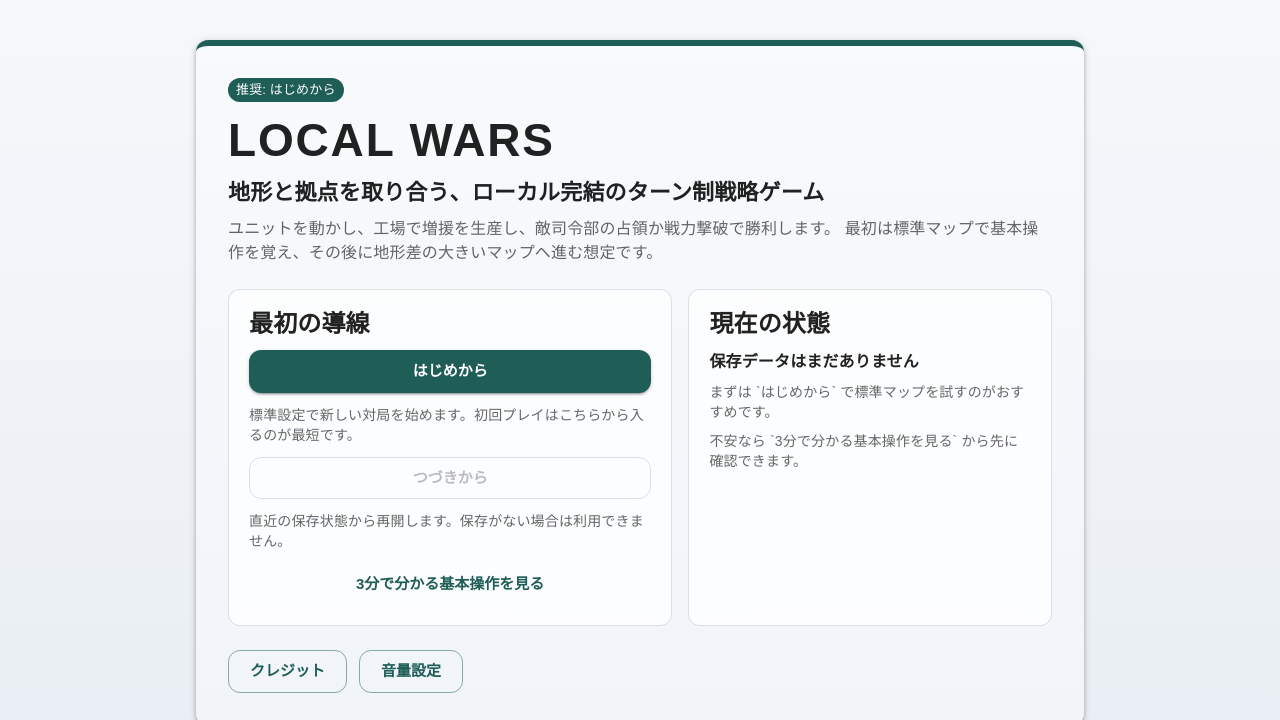
Test: App E2E相当導線テスト: ドローン戦初期値 › ドローン戦マップを選ぶと設定画面の初期値がドローン戦プリセットになる
Click the button "はじめから" at (450, 372), box [249,350,651,393]
(page scrolled)
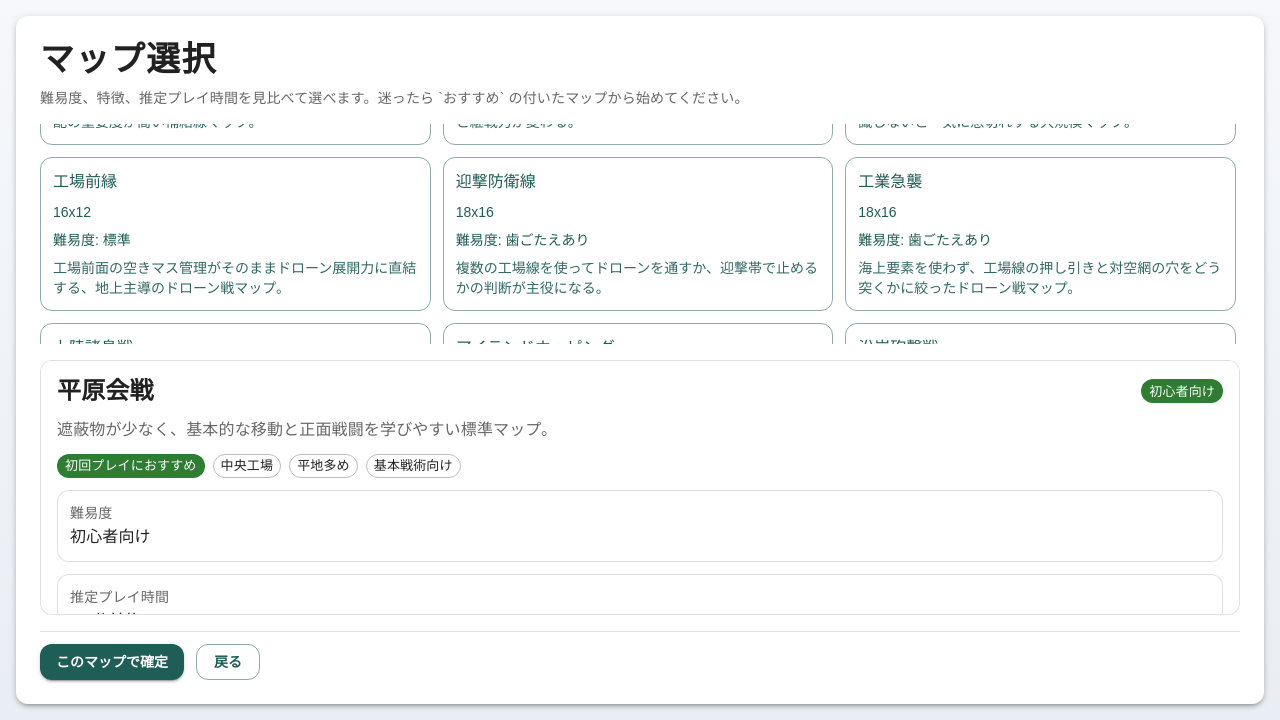
Click the button "工場前縁" at (85, 182), box [40,157,431,311]
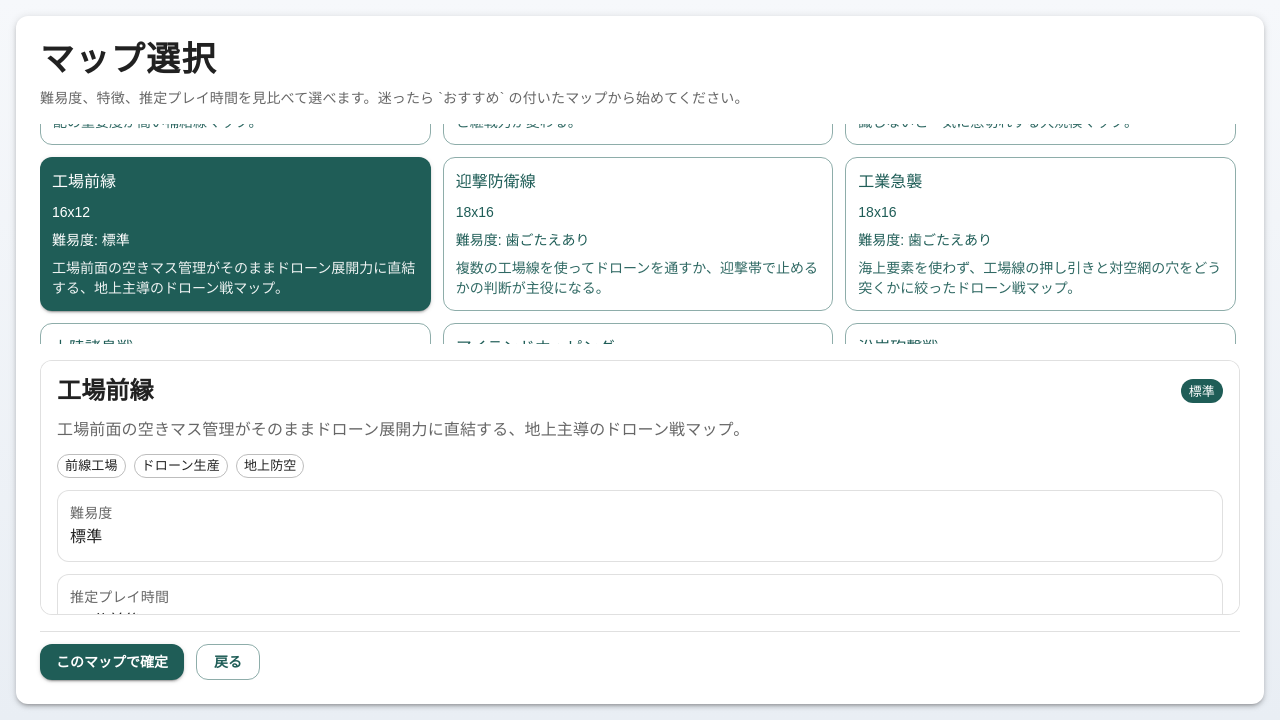
Click the button "このマップで確定" at (112, 662), box [40,644,184,680]
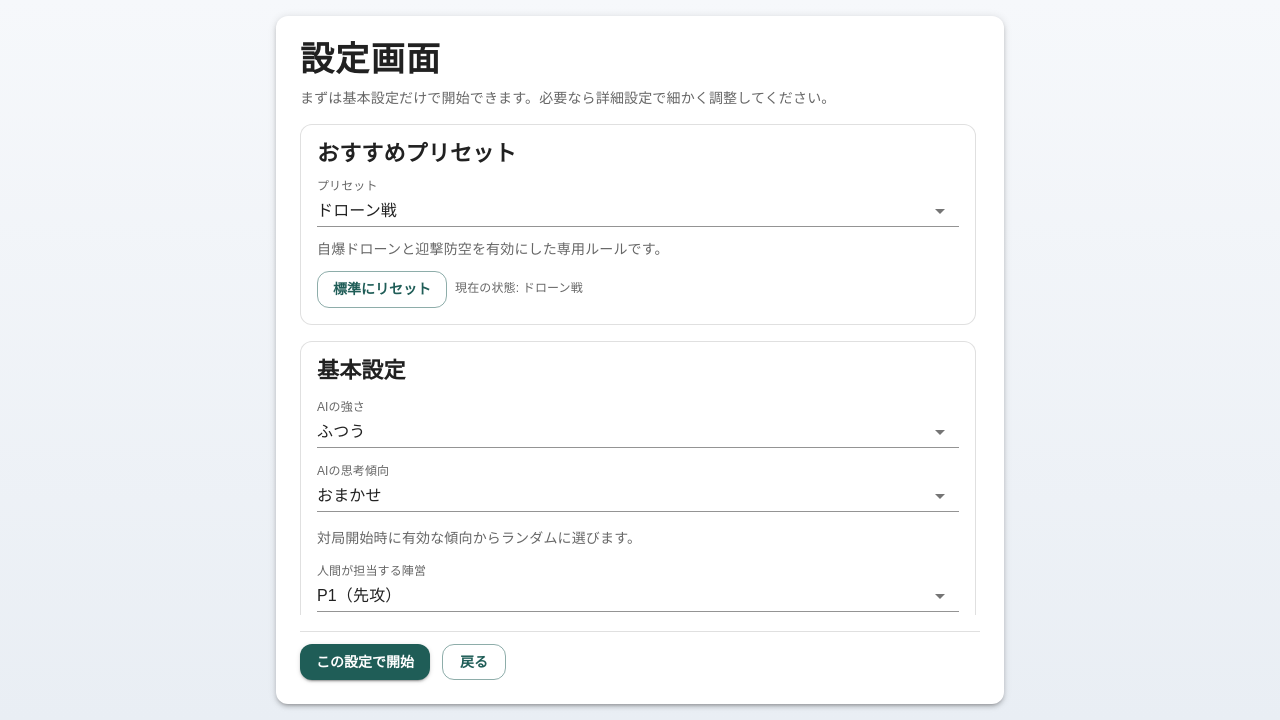
expect the text "現在の状態: ドローン戦" is shown: met, box [455,279,583,299]
